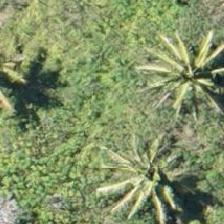coconut_tree: (116, 119, 206, 209), (151, 8, 223, 98)
